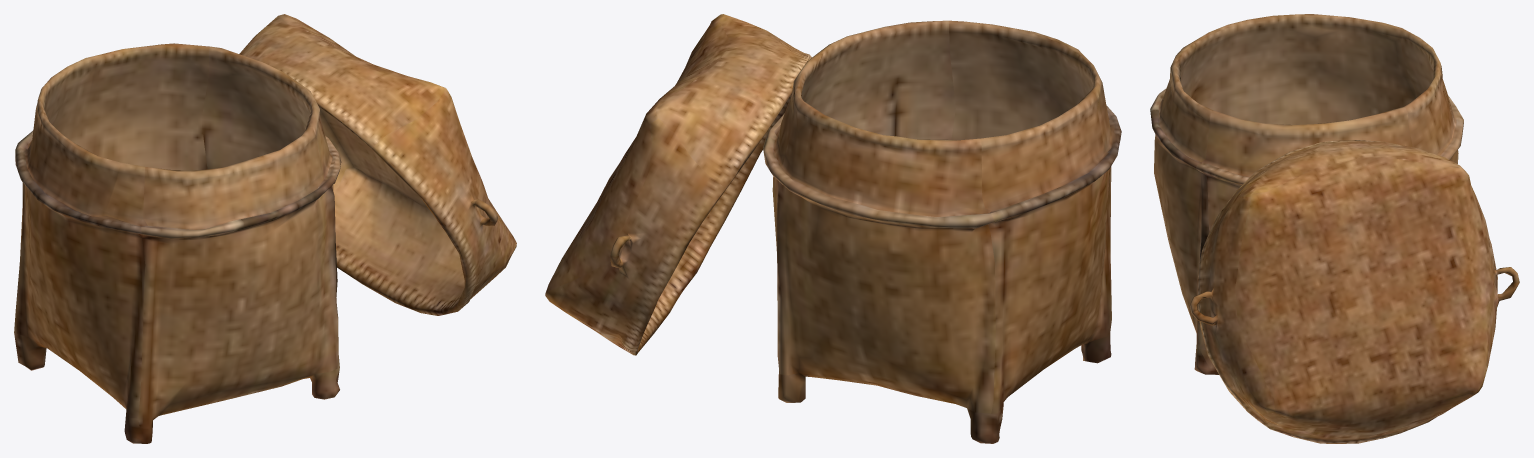
Rendered from wicker_basket_02.glb.
3 views of the same model, side by side, from view 1: azimuth 30°, elevation 25°; view 2: azimuth 150°, elevation 25°; view 3: azimuth 270°, elevation 25° (orthographic). The views are drawn at different scales.
Visible parts, largest first — view 1: wicker_basket_02_base, wicker_basket_02_lid; view 2: wicker_basket_02_base, wicker_basket_02_lid; view 3: wicker_basket_02_lid, wicker_basket_02_base.
Boxes of the visible parts, left/top/right/bottom form: wicker_basket_02_base: left=14, top=43, right=341, bottom=443; wicker_basket_02_lid: left=239, top=14, right=516, bottom=315; wicker_basket_02_base: left=763, top=20, right=1121, bottom=443; wicker_basket_02_lid: left=545, top=14, right=811, bottom=355; wicker_basket_02_lid: left=1189, top=140, right=1519, bottom=443; wicker_basket_02_base: left=1150, top=14, right=1463, bottom=374.
Bounding box in the file's own units: 0.3459 × 0.2004 × 0.2541.
1 material, 1 textured.
